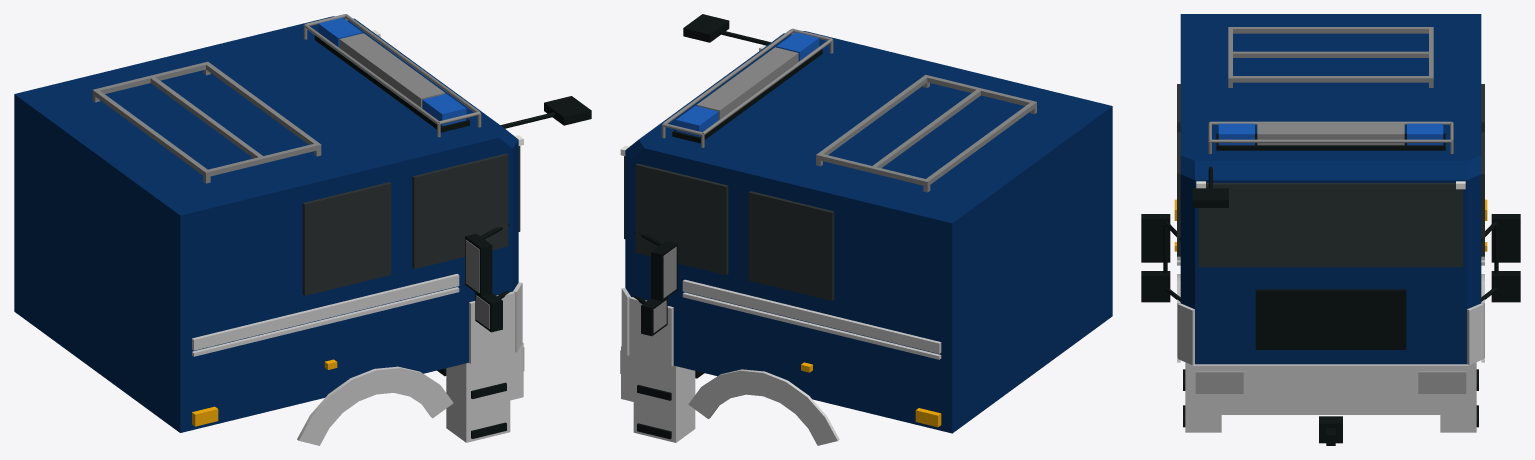
The model's file is man-le-18-280-cab.glb.
The picture shows the model from 3 angles, left to right: view 1: azimuth 30°, elevation 25°; view 2: azimuth 150°, elevation 25°; view 3: azimuth 270°, elevation 25°; orthographic projection. The views are drawn at different scales.
Visible parts, largest first — view 1: cab, cab-glass, cab-lens; view 2: cab, cab-glass, cab-lens; view 3: cab, cab-glass, cab-lens.
Boxes of the visible parts, x1,y1,x2,y2 form: cab: (14,14,591,445); cab-glass: (302,146,520,295); cab-lens: (192,30,524,426); cab: (621,14,1112,445); cab-glass: (624,156,834,300); cab-lens: (620,45,941,427); cab: (1141,14,1520,445); cab-glass: (1177,84,1484,267); cab-lens: (1174,181,1487,393).
Size of the model in its own units: 3.62 by 2.62 by 3.14.
